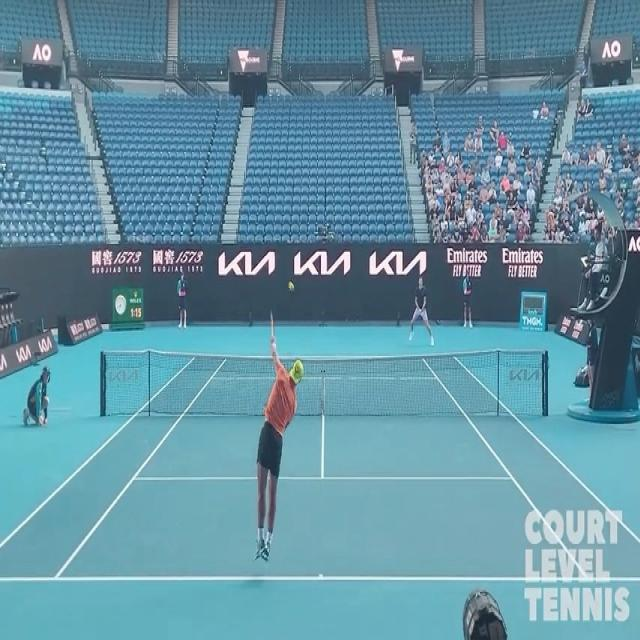serve_hit: (236, 275, 311, 589)
